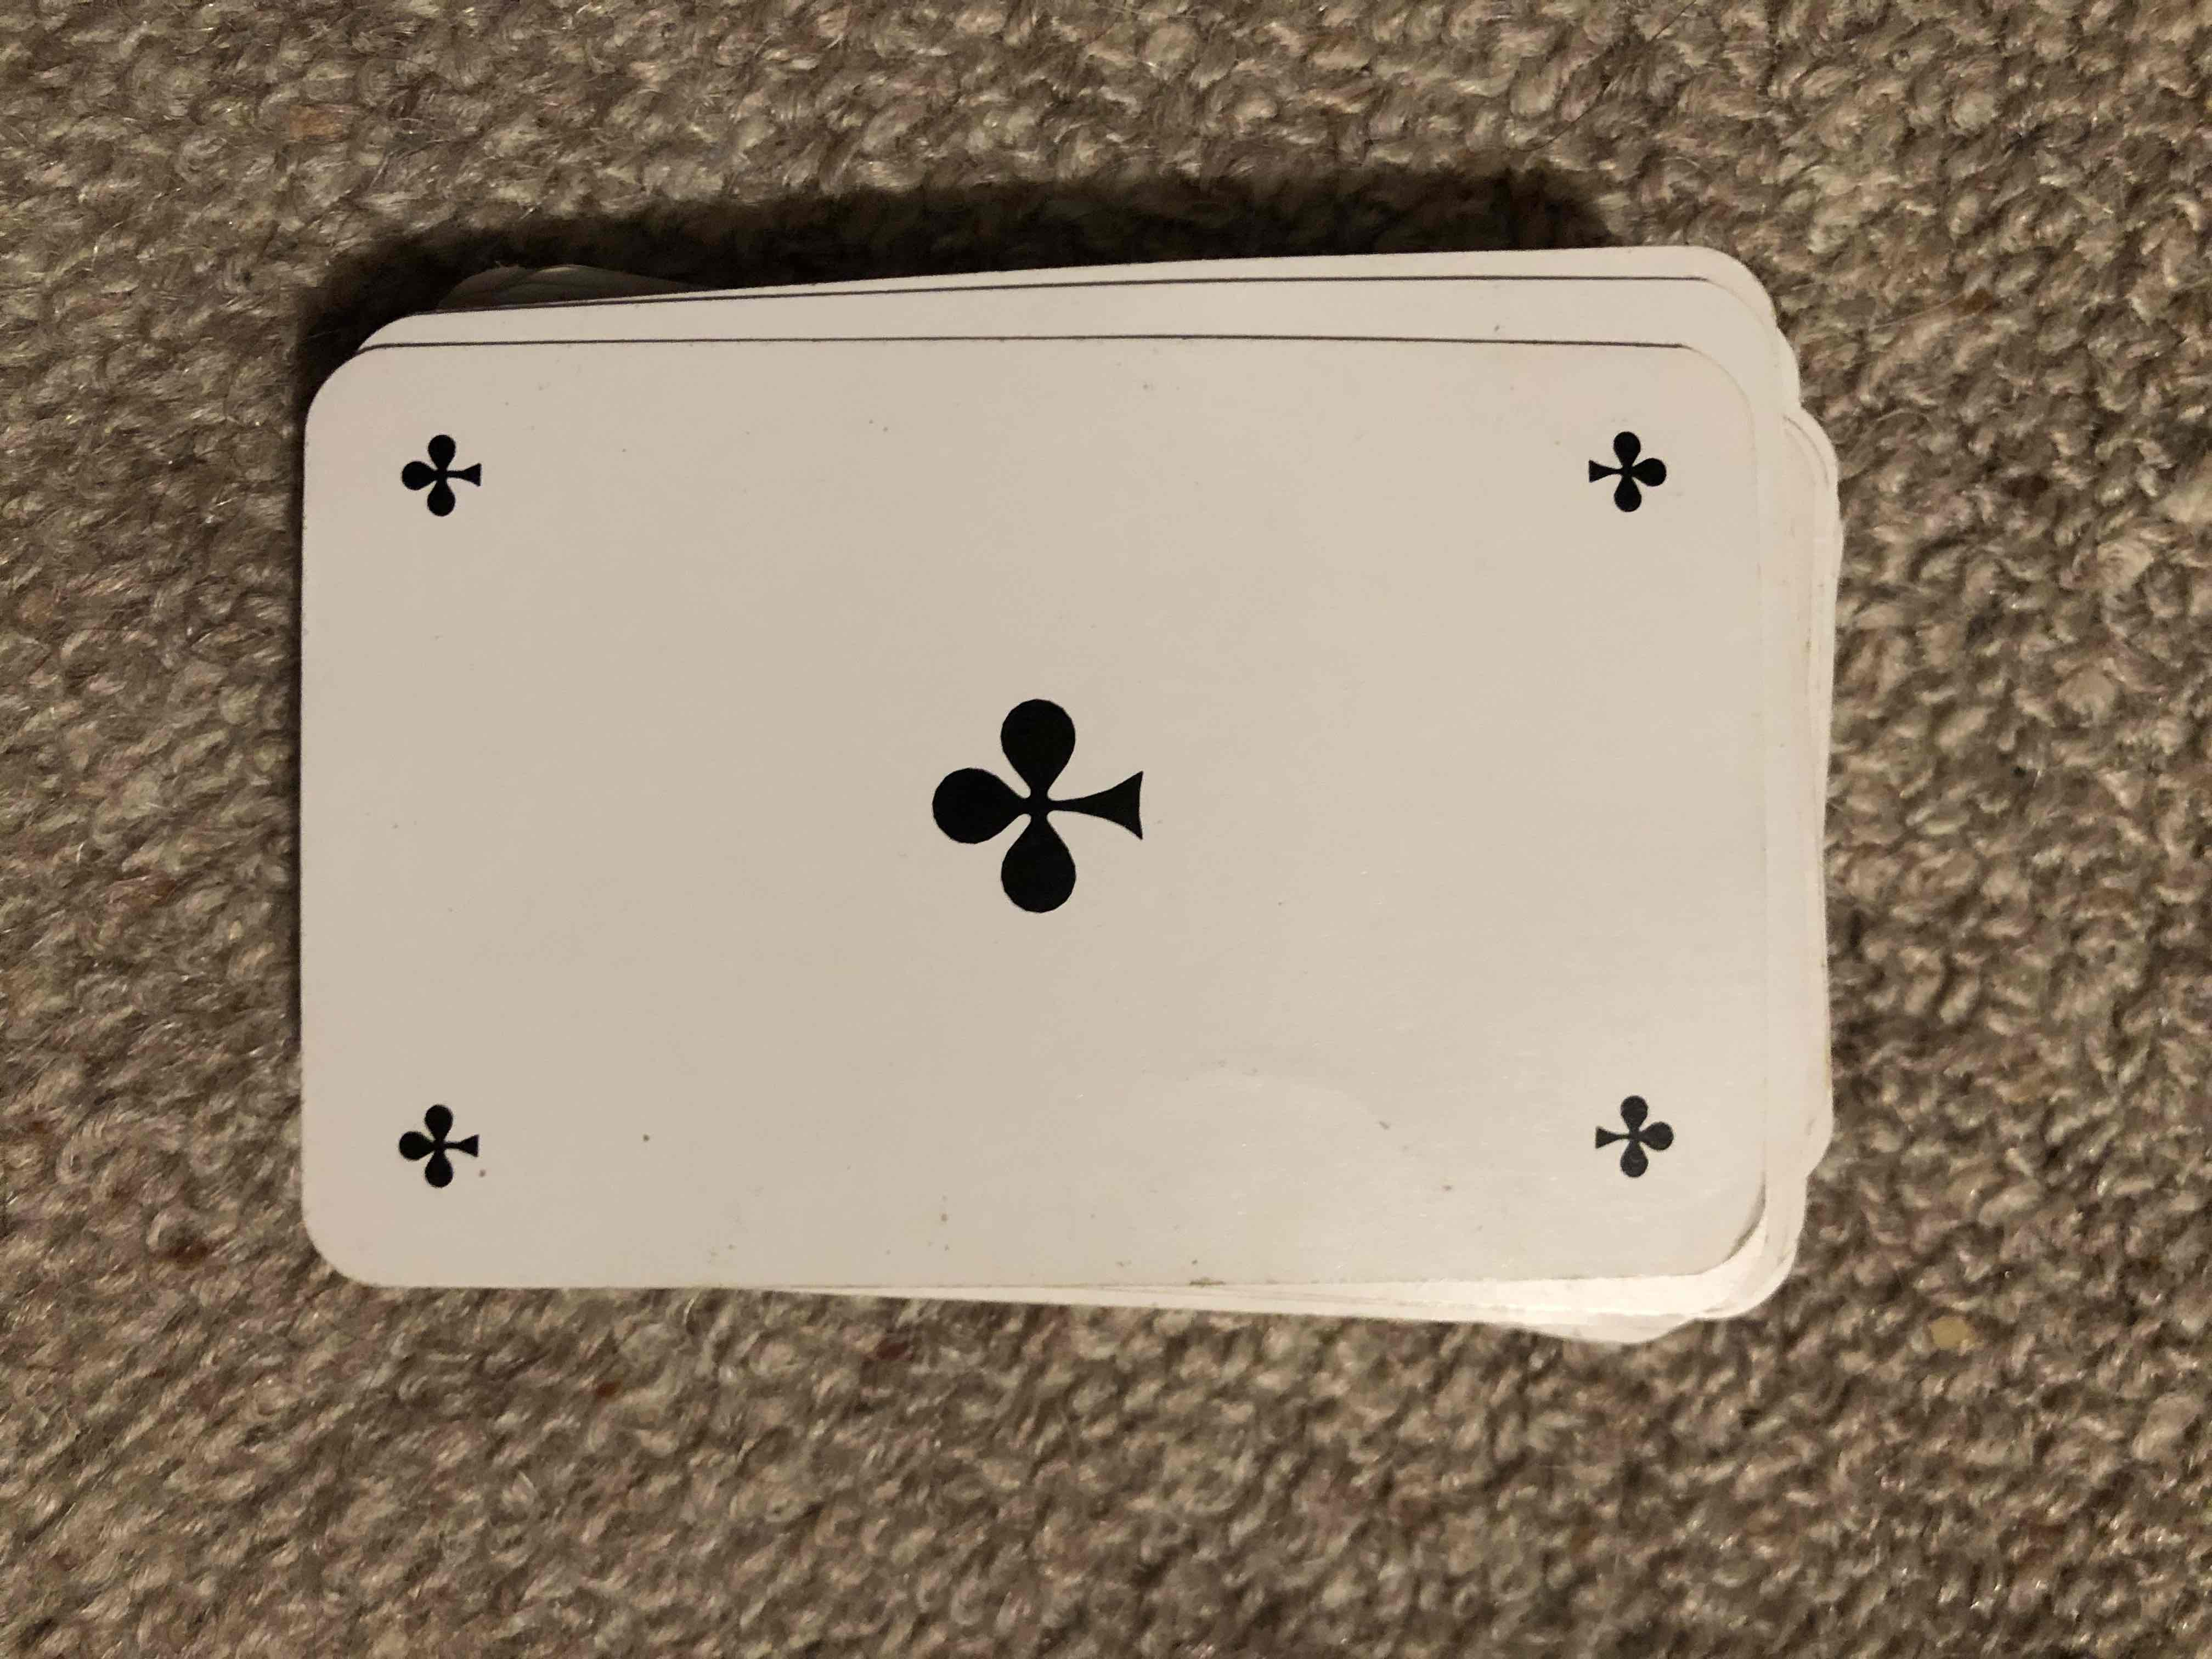clubsAce: (329, 354, 1778, 1295)
